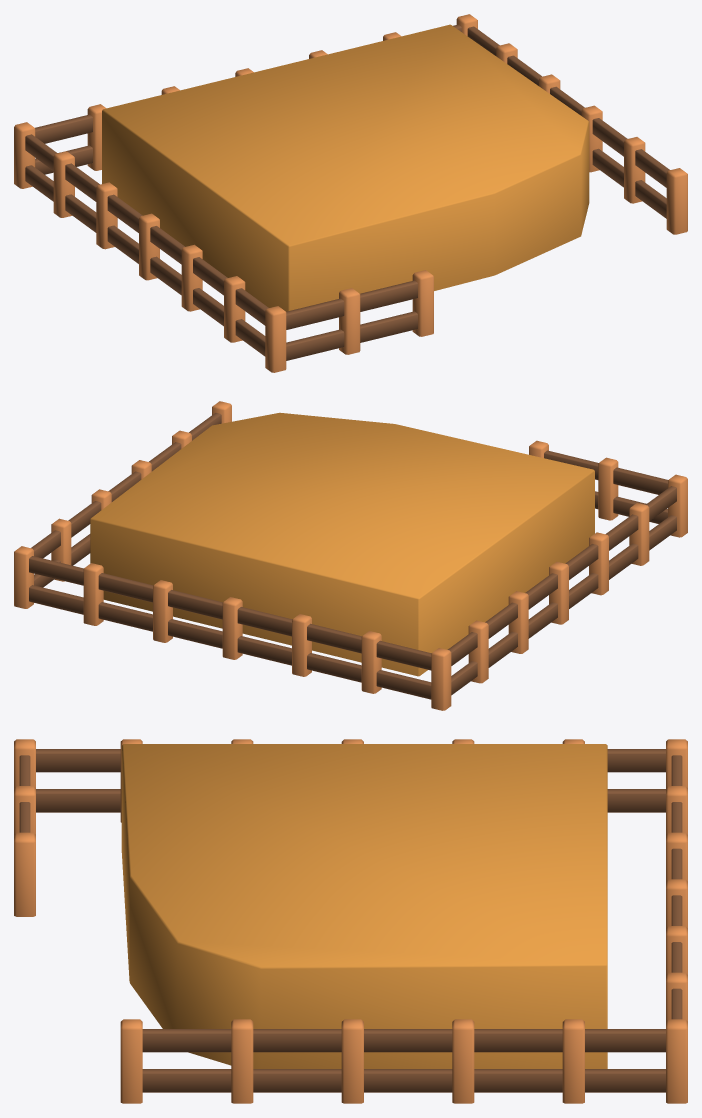
File: Field-2.fbx
3 views of the same model, one above another, from view 1: azimuth 30°, elevation 25°; view 2: azimuth 150°, elevation 25°; view 3: azimuth 270°, elevation 25° (orthographic). The views are drawn at different scales.
Parts seen in each view (by area): view 1: Cube.1230, Cube.1225, Cube.1223, Cube.1227, Cube.1229, Cube.1226, Cube.1228, Cube.1222, Cube.1224; view 2: Cube.1230, Cube.1224, Cube.1222, Cube.1225, Cube.1223, Cube.1229, Cube.1226, Cube.1227, Cube.1228; view 3: Cube.1230, Cube.1229, Cube.1228, Cube.1225, Cube.1222, Cube.1226, Cube.1224, Cube.1227, Cube.1223.
Part boxes in pixels (x1,y1,x2,y2): Cube.1230: [102, 24, 589, 311]; Cube.1225: [25, 134, 268, 356]; Cube.1223: [53, 151, 245, 342]; Cube.1227: [286, 280, 417, 360]; Cube.1229: [467, 26, 669, 218]; Cube.1226: [265, 270, 433, 372]; Cube.1228: [496, 43, 687, 234]; Cube.1222: [14, 14, 477, 188]; Cube.1224: [35, 24, 461, 174]; Cube.1230: [90, 412, 594, 676]; Cube.1224: [29, 556, 431, 699]; Cube.1222: [14, 546, 451, 710]; Cube.1225: [447, 486, 676, 695]; Cube.1223: [468, 503, 649, 683]; Cube.1229: [31, 413, 221, 587]; Cube.1226: [529, 440, 687, 537]; Cube.1227: [544, 450, 667, 523]; Cube.1228: [51, 401, 231, 581]; Cube.1230: [121, 744, 607, 1068]; Cube.1229: [142, 1029, 665, 1092]; Cube.1228: [120, 1019, 584, 1103]; Cube.1225: [36, 749, 665, 812]; Cube.1222: [666, 739, 687, 1103]; Cube.1226: [14, 739, 35, 916]; Cube.1224: [671, 755, 682, 1019]; Cube.1227: [19, 755, 30, 832]; Cube.1223: [120, 739, 584, 822].
Bounding box in the file's own units: 180 × 31.13 × 177.
